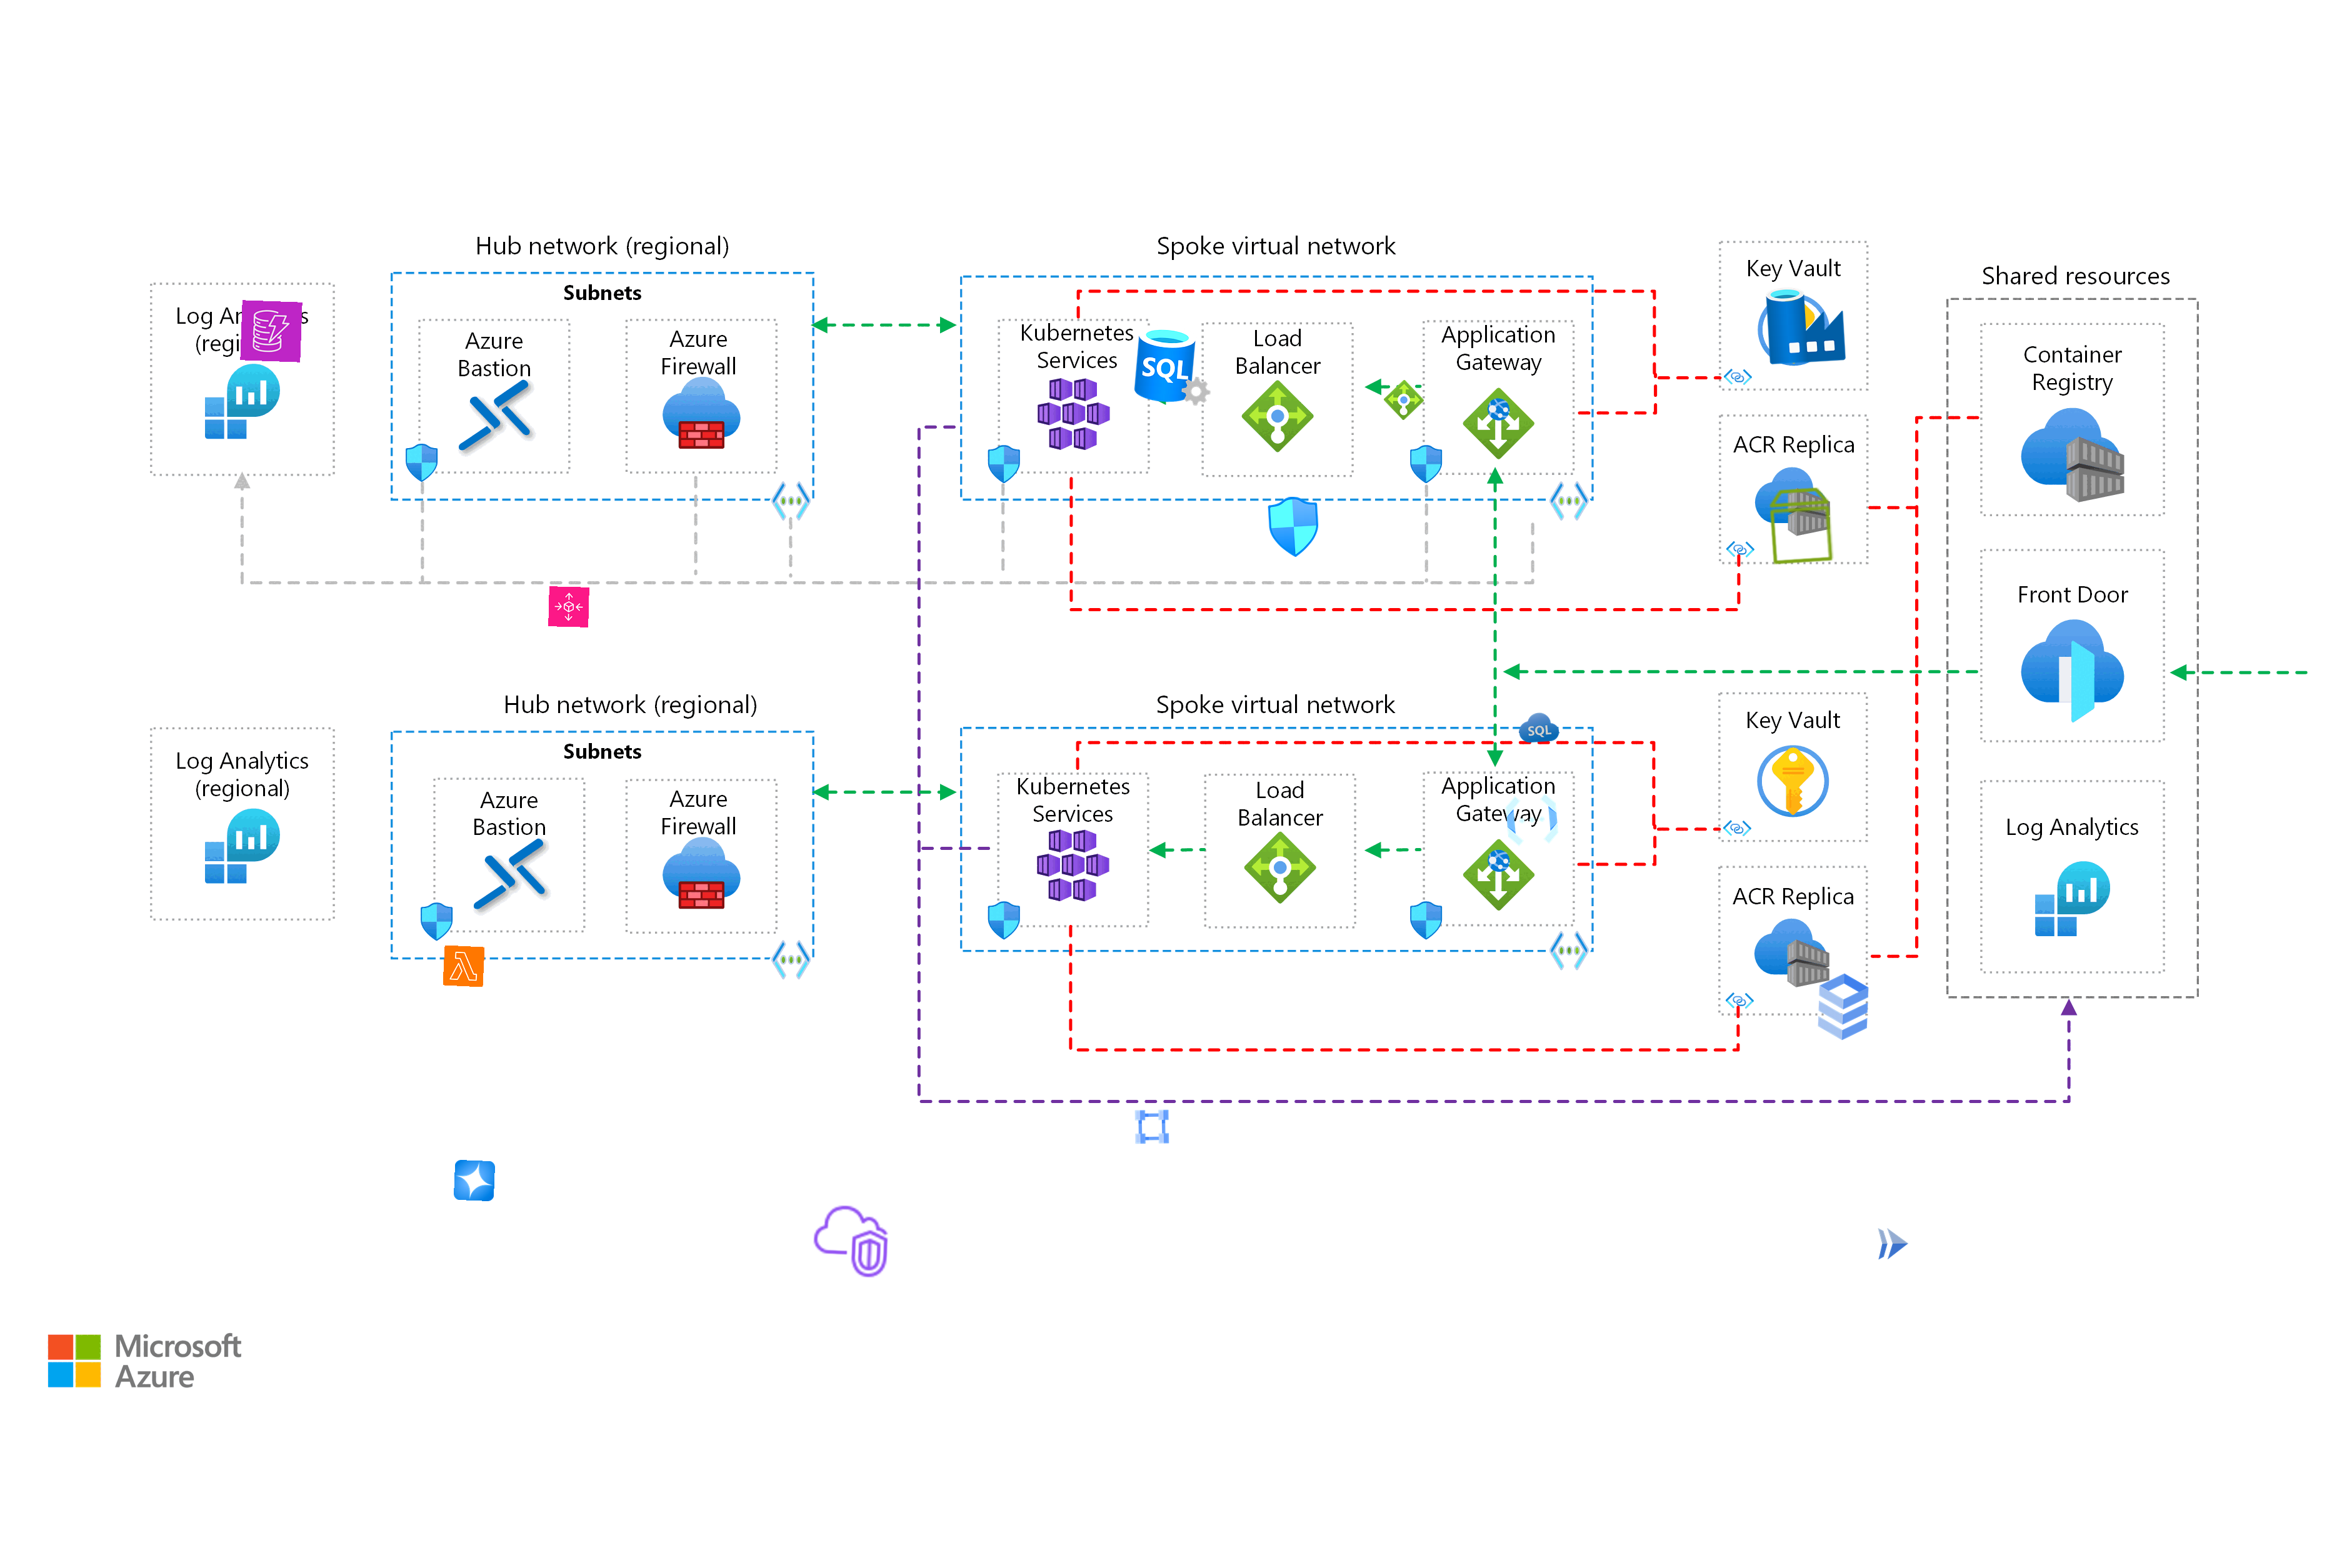aws_amazon_dynamodb: (240, 299, 303, 362)
aws_auto_scaling: (548, 586, 590, 628)
aws_elastic_block_store_volume: (1759, 483, 1845, 569)
aws_lambda: (443, 945, 485, 987)
aws_vpc_virtual_private_cloud_vpc: (808, 1199, 893, 1283)
azure_data_factories: (1764, 282, 1848, 367)
azure_load_balancers: (1383, 380, 1424, 420)
azure_network_security_groups: (1262, 495, 1327, 558)
azure_openai: (453, 1158, 495, 1202)
azure_sql: (1517, 707, 1561, 751)
azure_sql_server: (1130, 322, 1218, 409)
gcp_cloud_functions: (1500, 787, 1565, 852)
gcp_cloud_run: (1872, 1223, 1913, 1263)
gcp_cloud_sql: (1801, 964, 1885, 1048)
gcp_virtual_private_cloud: (1130, 1106, 1172, 1148)
